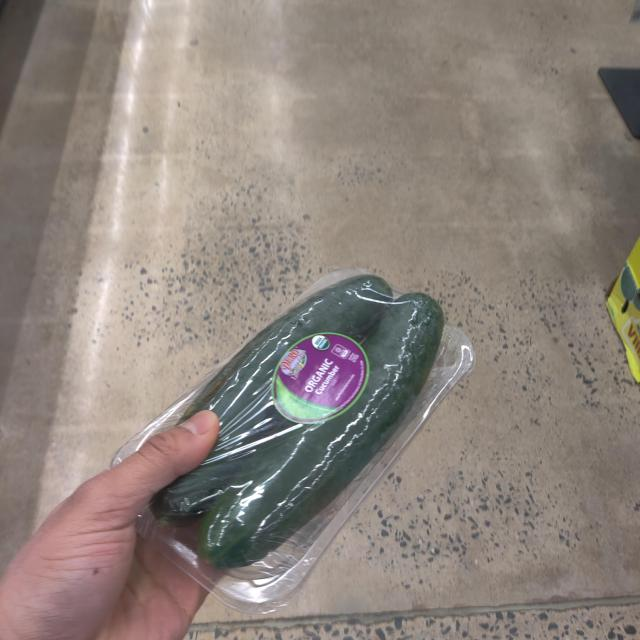Cucumber: (144, 275, 450, 572)
